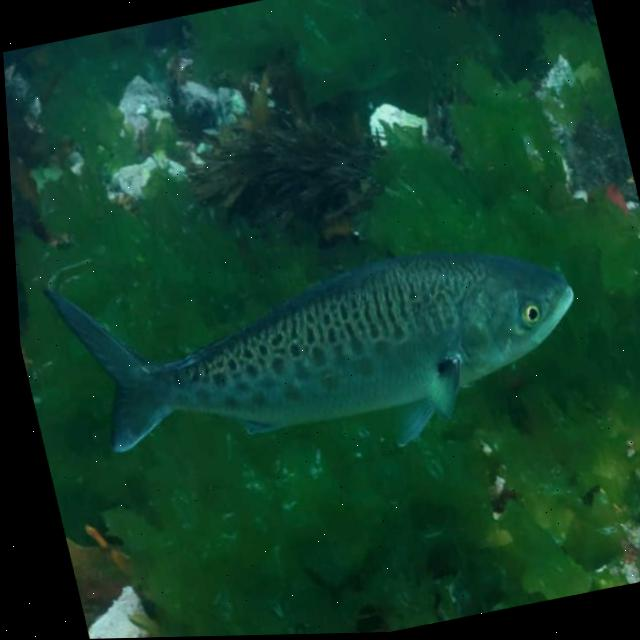Australian Salmon: (26, 177, 606, 520)
